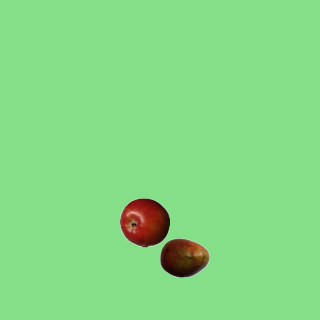Apple Braeburn: (119, 197, 169, 247)
Mango Red: (159, 232, 209, 282)
